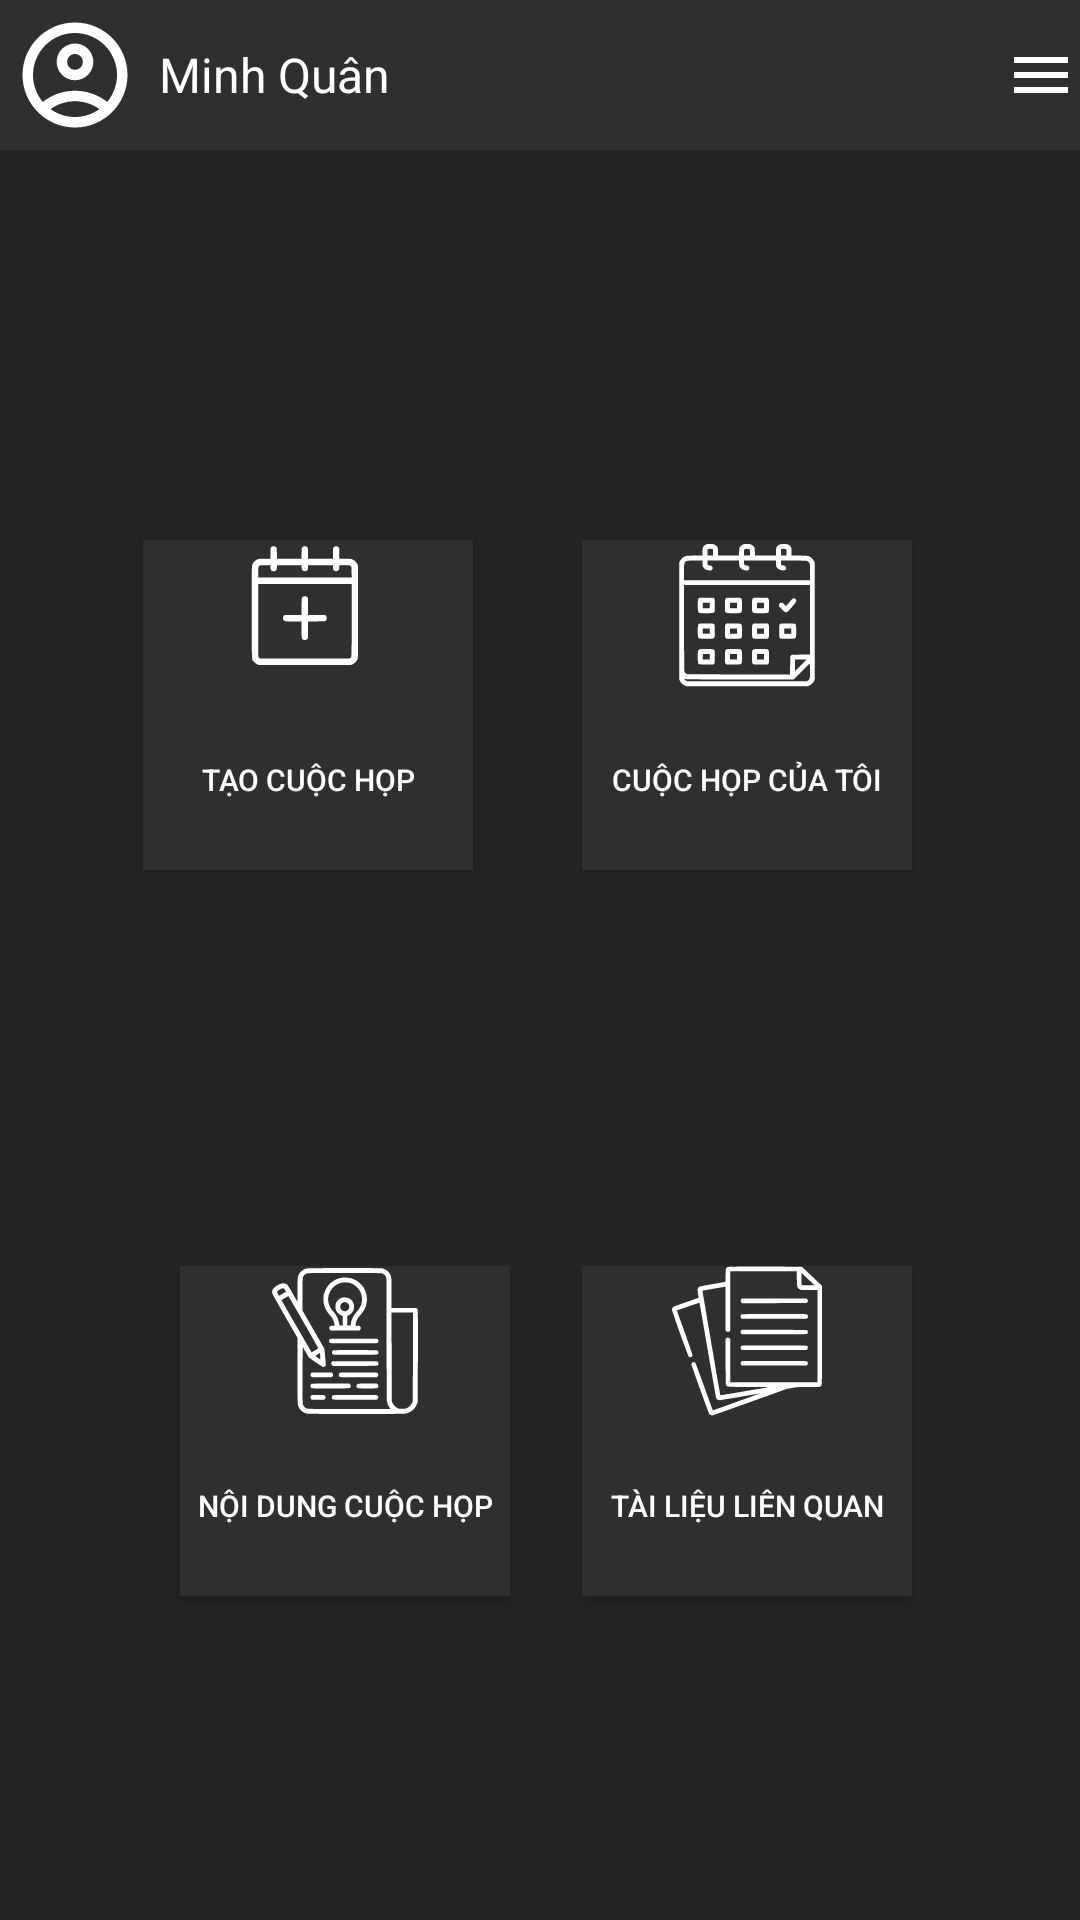

Where to tap for icons on this 1080*1920 app screen, as (x,y):
menu: (1041,75)
profile: (75,75)
